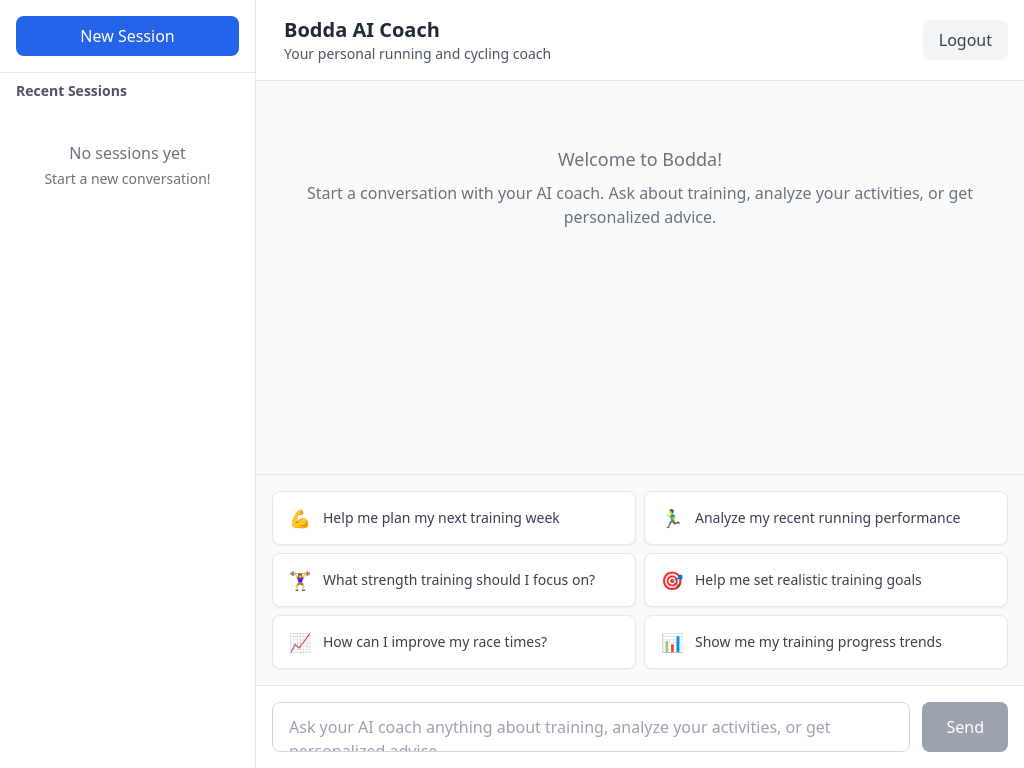
ChatInterface - Suggestion Pills Integration › Pills Hiding When Input Has Text or Messages Exist › hides pills immediately when user starts typing
Expected: the text "Help me plan my next training week" is shown, [323,508,560,527]
Replace the text in the text box with placeholder "Ask your AI coach" with "H" at point(591, 727), box [272,702,910,752]
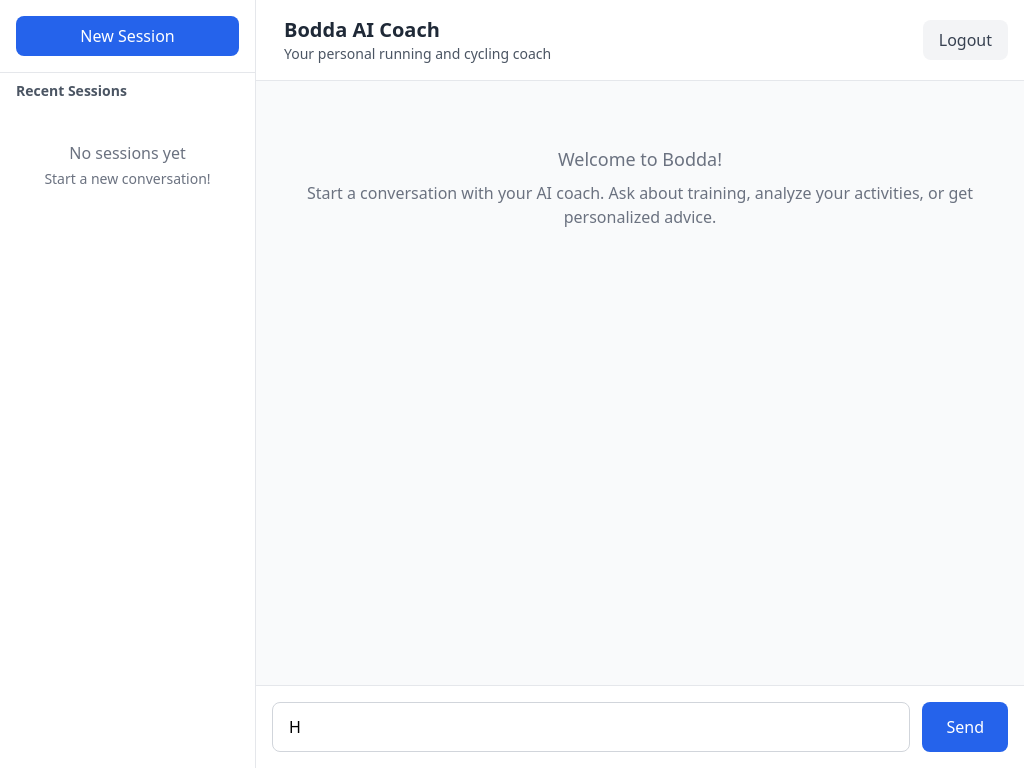
Expected: the button "Help me plan my next training week" is gone
